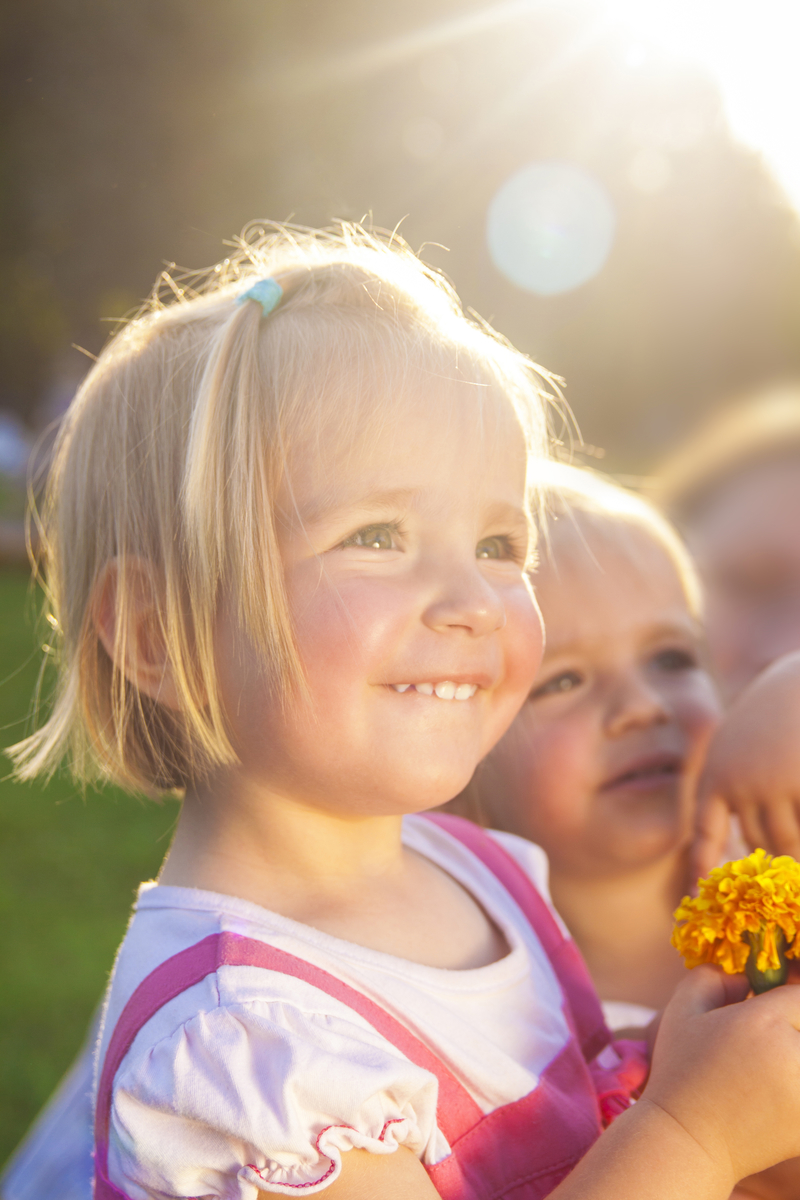human: (35, 212, 800, 1200), (454, 414, 747, 966)
